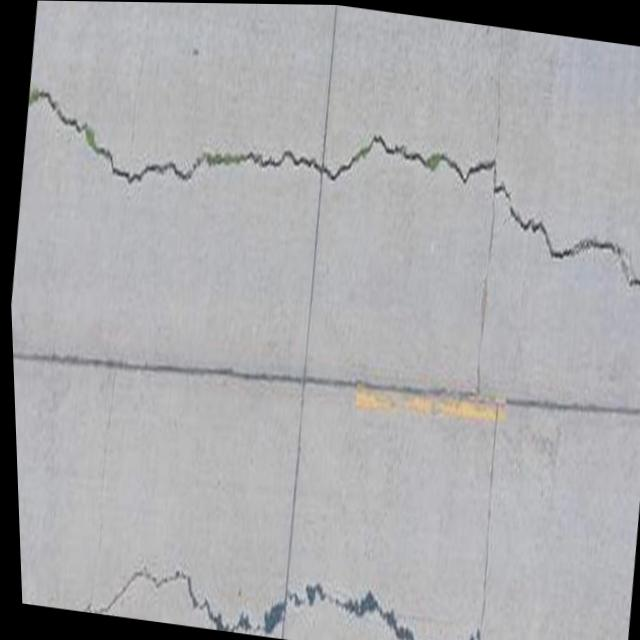Crack: (12, 55, 640, 334), (88, 538, 513, 640)
